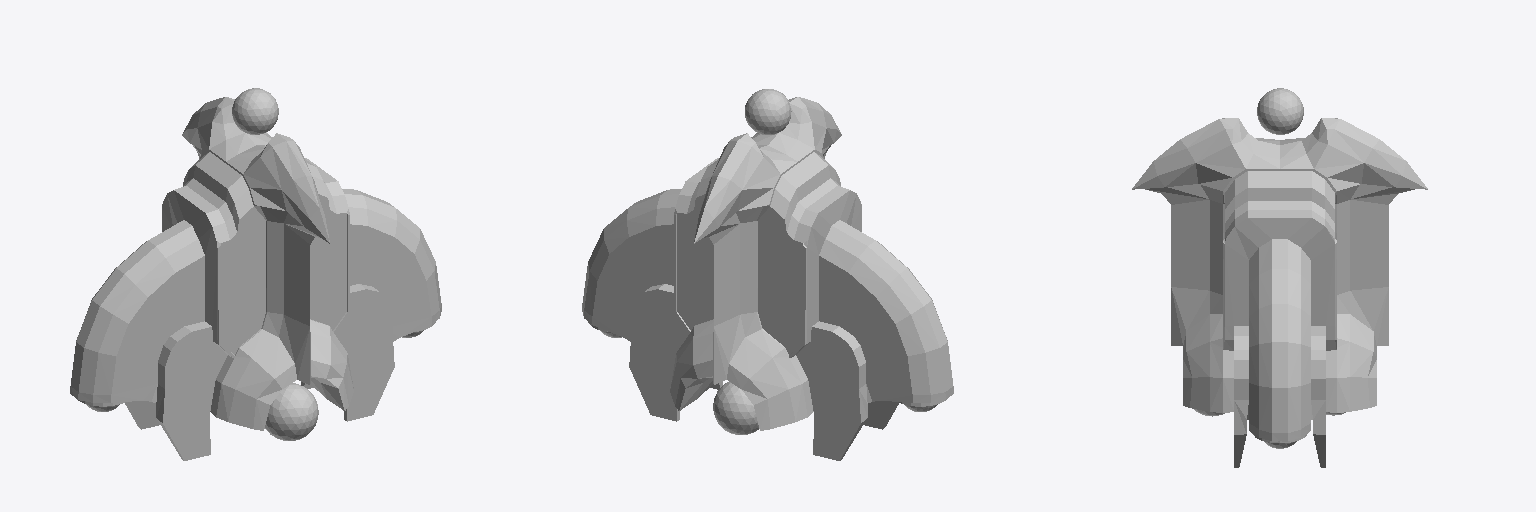
The model's file is spawner.obj.
3 renders of one model, left to right at view 1: azimuth 30°, elevation 25°; view 2: azimuth 150°, elevation 25°; view 3: azimuth 270°, elevation 25°, orthographic.
Parts seen in each view (by area): view 1: Plane002; view 2: Plane002; view 3: Plane002.
Part boxes in pixels (left/top/right/bottom): Plane002: left=70, top=88, right=441, bottom=460; Plane002: left=582, top=89, right=953, bottom=460; Plane002: left=1132, top=88, right=1427, bottom=467.
Size of the model in its own units: 83.46 by 72.75 by 59.14.